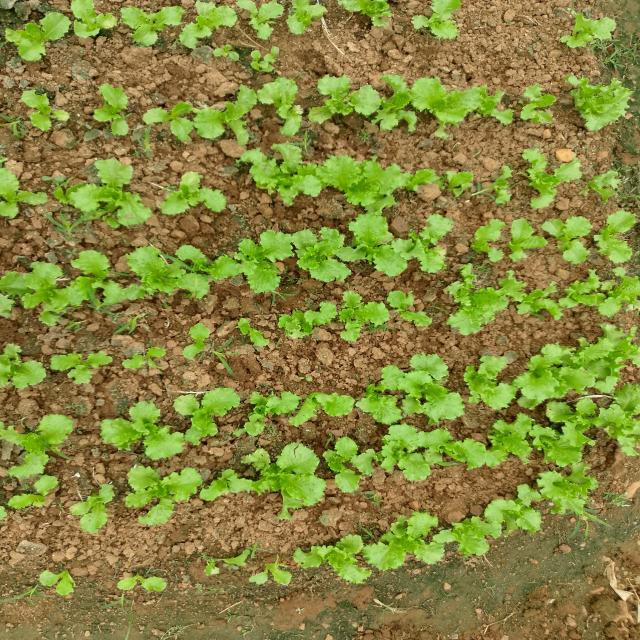Lettuce: (476, 357, 640, 394), (60, 162, 143, 229), (250, 439, 330, 507), (347, 373, 468, 417), (145, 169, 242, 223), (532, 395, 603, 468), (80, 252, 138, 338), (1, 260, 76, 324), (134, 464, 215, 522), (106, 402, 182, 460), (554, 70, 627, 130), (133, 238, 201, 302), (328, 155, 410, 208), (233, 234, 296, 298), (184, 381, 250, 442), (170, 108, 270, 148), (380, 70, 442, 134), (1, 2, 70, 58), (7, 413, 62, 483), (138, 1, 222, 46), (450, 78, 524, 128), (260, 388, 337, 436), (354, 217, 413, 277), (72, 1, 137, 55), (317, 437, 386, 487), (11, 86, 72, 142), (304, 538, 395, 574), (313, 72, 373, 126), (85, 86, 144, 140), (379, 429, 437, 481), (193, 460, 264, 501), (303, 224, 353, 282), (424, 518, 489, 562), (602, 384, 640, 453), (533, 475, 596, 516), (52, 347, 110, 391), (452, 285, 501, 337), (490, 486, 544, 533), (224, 2, 287, 41), (387, 505, 437, 554), (277, 308, 342, 345), (489, 218, 554, 254), (345, 294, 396, 338), (0, 165, 35, 228), (432, 434, 496, 468), (492, 415, 539, 461), (0, 341, 35, 391), (338, 1, 402, 28), (550, 283, 613, 310), (287, 1, 329, 35), (425, 0, 461, 39)
